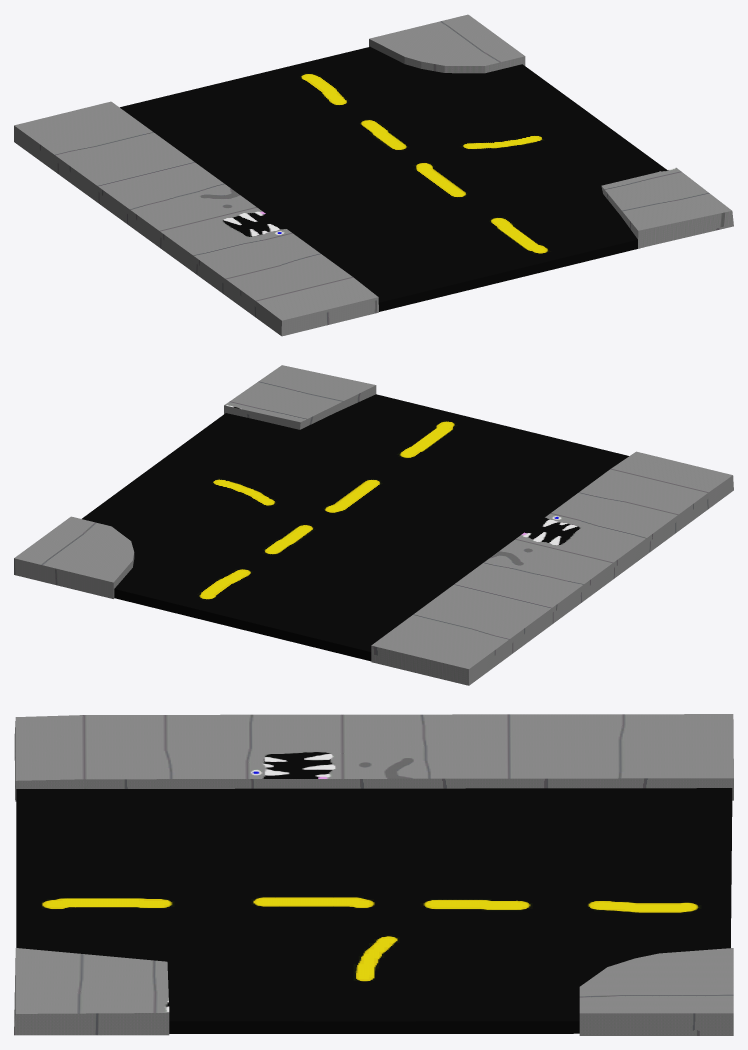
The model's file is streetcornerstraight.gltf.
The picture shows the model from 3 angles, top to bottom: view 1: azimuth 30°, elevation 25°; view 2: azimuth 150°, elevation 25°; view 3: azimuth 270°, elevation 25°; orthographic projection. The views are drawn at different scales.
Visible parts, largest first — view 1: Cube_005, Cube_004; view 2: Cube_005, Cube_004; view 3: Cube_005, Cube_004.
Boxes of the visible parts, left/top/right/bottom form: Cube_005: left=120, top=46, right=666, bottom=311; Cube_004: left=14, top=14, right=733, bottom=336; Cube_005: left=82, top=394, right=628, bottom=661; Cube_004: left=14, top=365, right=733, bottom=685; Cube_005: left=16, top=788, right=732, bottom=1033; Cube_004: left=14, top=714, right=733, bottom=1035.
Size of the model in its own units: 15.89 by 0.6129 by 16.15.
2 materials, 2 textured.
